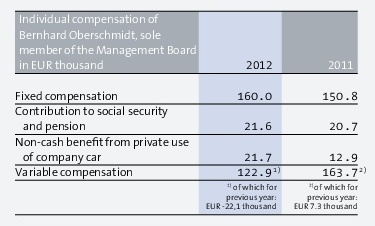table: (0, 0, 375, 226)
